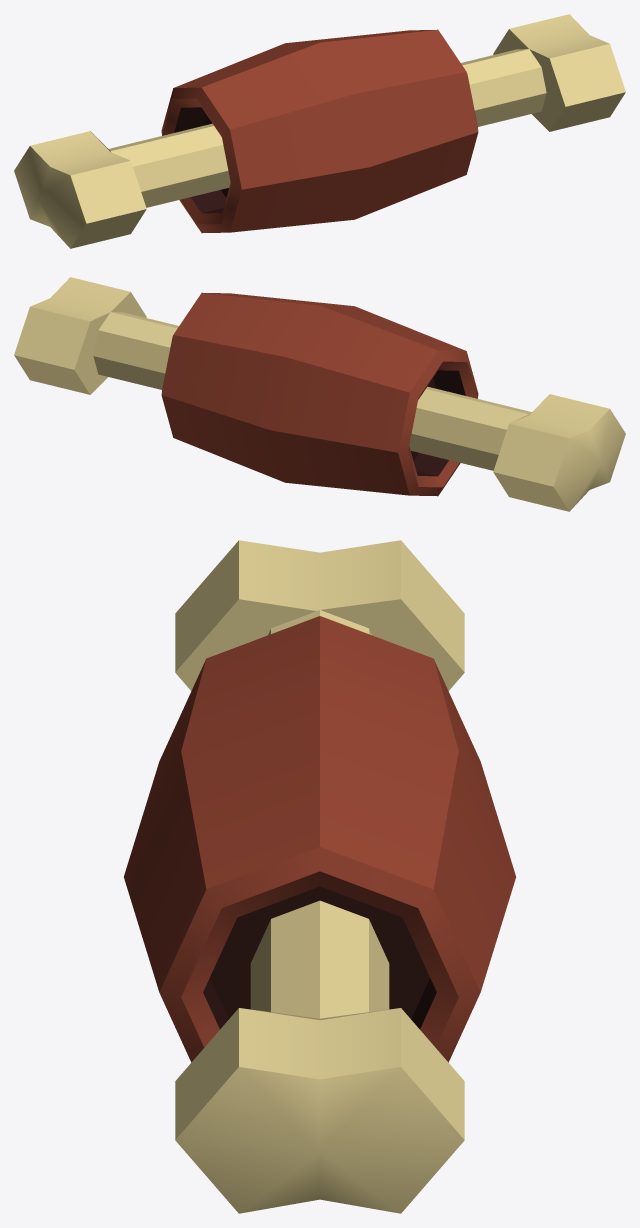
Rendered from Carne.fbx.
3 renders of one model, top to bottom at view 1: azimuth 30°, elevation 25°; view 2: azimuth 150°, elevation 25°; view 3: azimuth 270°, elevation 25°, orthographic. The views are drawn at different scales.
Visible parts, largest first — view 1: Cylinder; view 2: Cylinder; view 3: Cylinder.
Boxes of the visible parts, x1=… form: Cylinder: x1=14, y1=14, x2=625, y2=248; Cylinder: x1=14, y1=277, x2=625, y2=511; Cylinder: x1=124, y1=540, x2=515, y2=1213.
Bounding box in the file's own units: 809 × 244 × 244.
